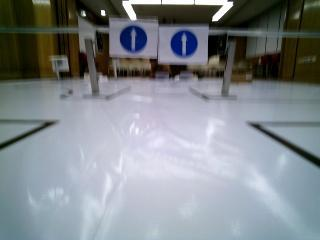straight: (154, 26, 207, 64), (109, 19, 159, 59)
